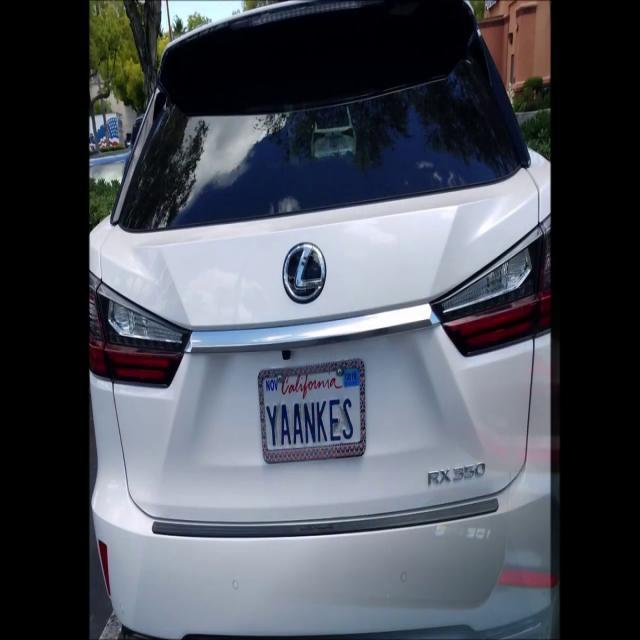LicensePlate: (257, 371, 365, 457)
